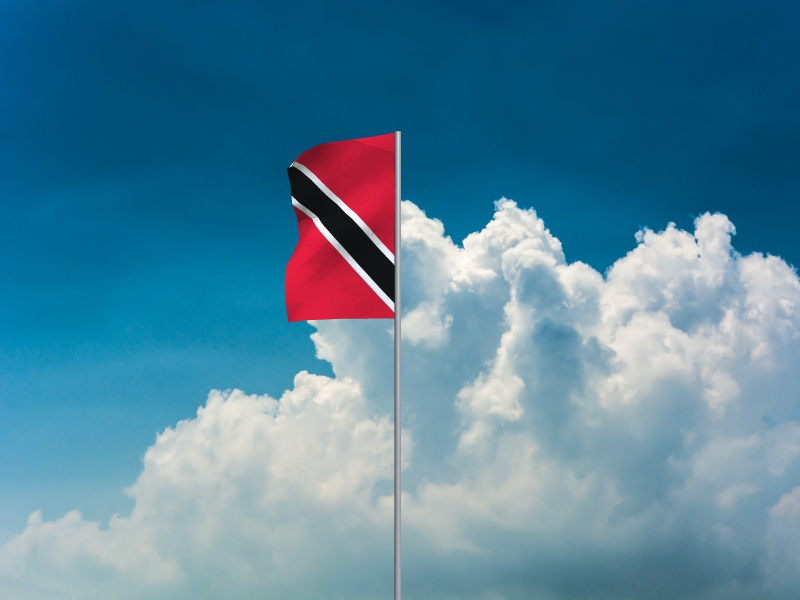tt: (284, 133, 394, 324)
